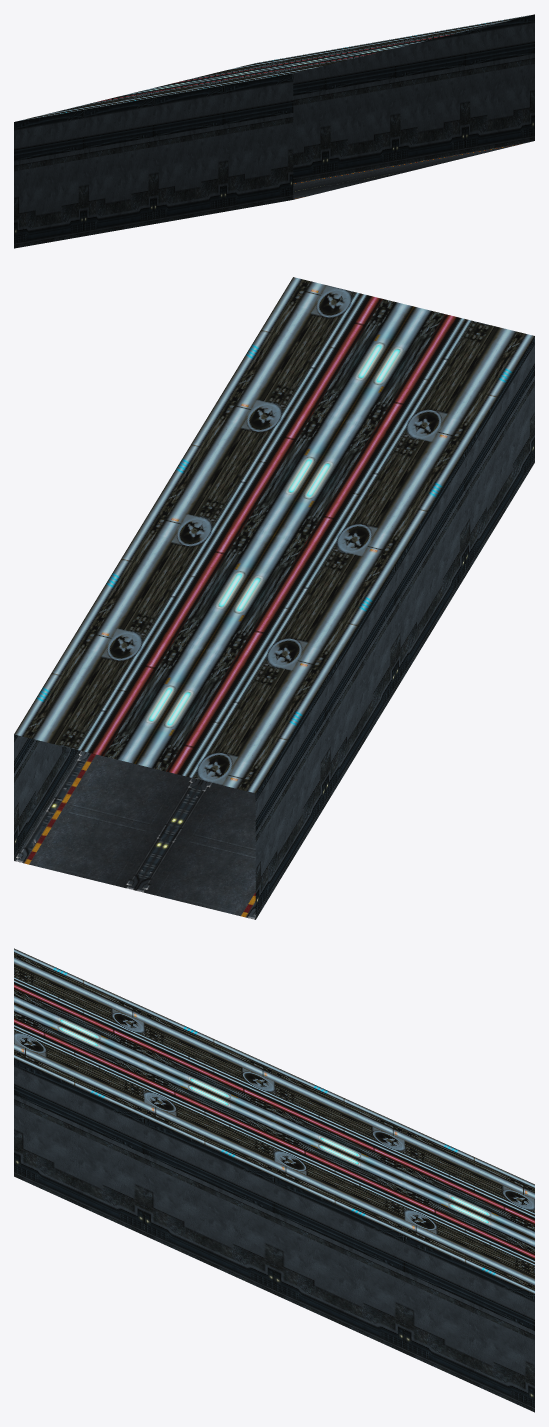
Rendered from pbtunn07.FBX.
3 renders of one model, top to bottom at view 1: azimuth 30°, elevation 25°; view 2: azimuth 150°, elevation 25°; view 3: azimuth 270°, elevation 25°, orthographic. The views are drawn at different scales.
Visible parts, largest first — view 1: pbtunn07; view 2: pbtunn07; view 3: pbtunn07.
Part boxes in pixels (<box>): pbtunn07: <box>14,14,534,248</box>; pbtunn07: <box>14,277,534,919</box>; pbtunn07: <box>14,948,534,1412</box>.
Size of what is drawn, in the model's own units: 32 by 64 by 48.
